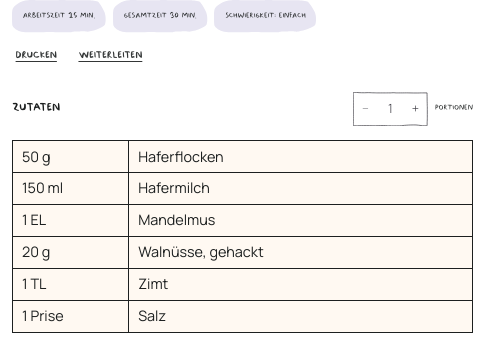
Test case: Rezept › rechnet die Mengen auf die Portionen um
This screenshot has width=490, height=350.
Expected: the text "50 g" is shown, [13,141,128,172]
What coordinates should you click on to do the following:
click the button named "Mehr"
I would click on:
 (415, 109)
Its box is [403,92,428,126].
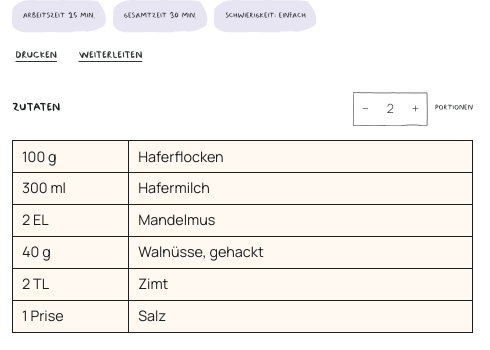
Now the text "100 g" is shown, box [13,141,128,172]
